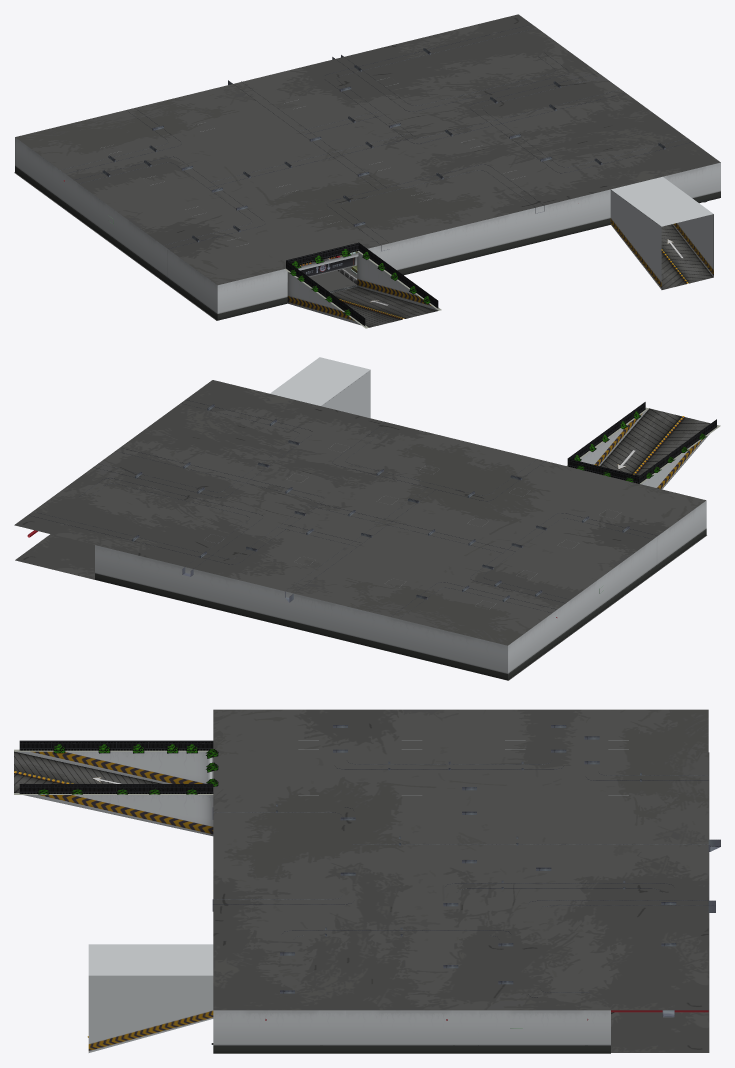
The model's file is ham ligtingmap ok.FBX.
3 views of the same model, one above another, from view 1: azimuth 30°, elevation 25°; view 2: azimuth 150°, elevation 25°; view 3: azimuth 270°, elevation 25° (orthographic). The views are drawn at different scales.
Parts seen in each view (by area): view 1: Group001; view 2: Group001; view 3: Group001.
Boxes of the visible parts, bbox=[...] form: Group001: bbox=[14, 14, 720, 328]; Group001: bbox=[14, 357, 720, 680]; Group001: bbox=[14, 709, 720, 1053].
Size of the model in its own units: 16038 by 2174 by 15869.
